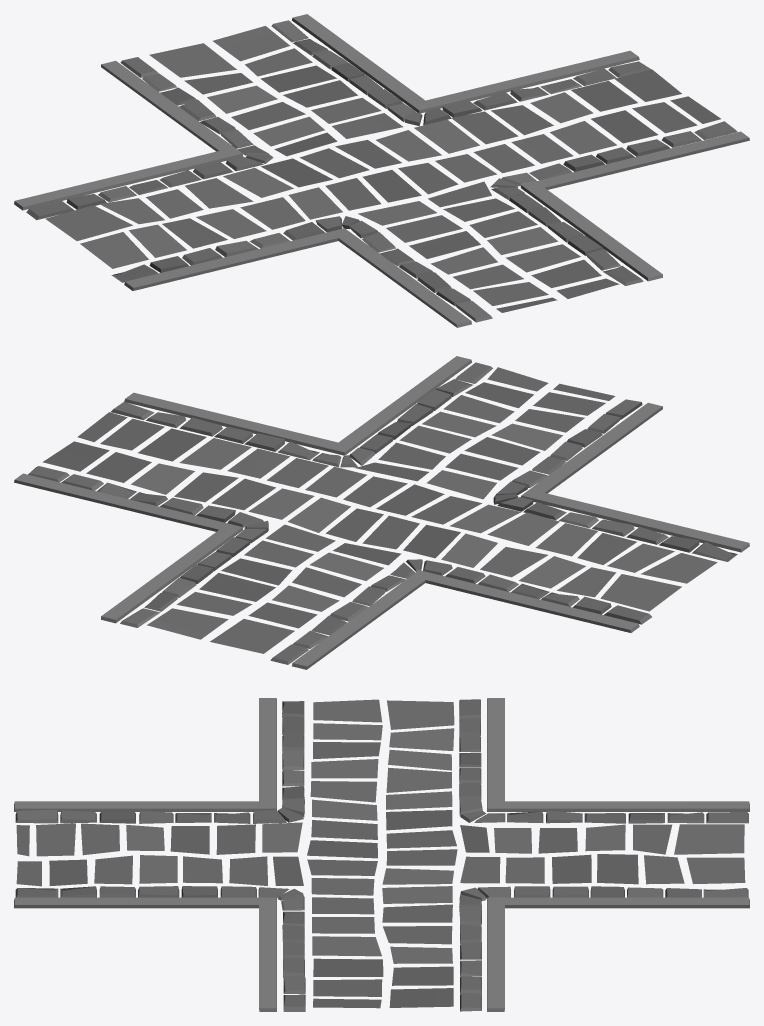
File: Road Cobble Cross Long.glb
3 views of the same model, one above another, from view 1: azimuth 30°, elevation 25°; view 2: azimuth 150°, elevation 25°; view 3: azimuth 270°, elevation 25° (orthographic). The views are drawn at different scales.
Visible parts, largest first — view 1: RoadCobbleCrossLong; view 2: RoadCobbleCrossLong; view 3: RoadCobbleCrossLong.
Boxes of the visible parts, x1,y1,x2,y2 form: RoadCobbleCrossLong: (14,14,749,327); RoadCobbleCrossLong: (14,356,749,669); RoadCobbleCrossLong: (14,698,749,1011).
Size of what is drawn, in the model's own units: 6 by 0.0465 by 6.
1 material, 1 textured.
